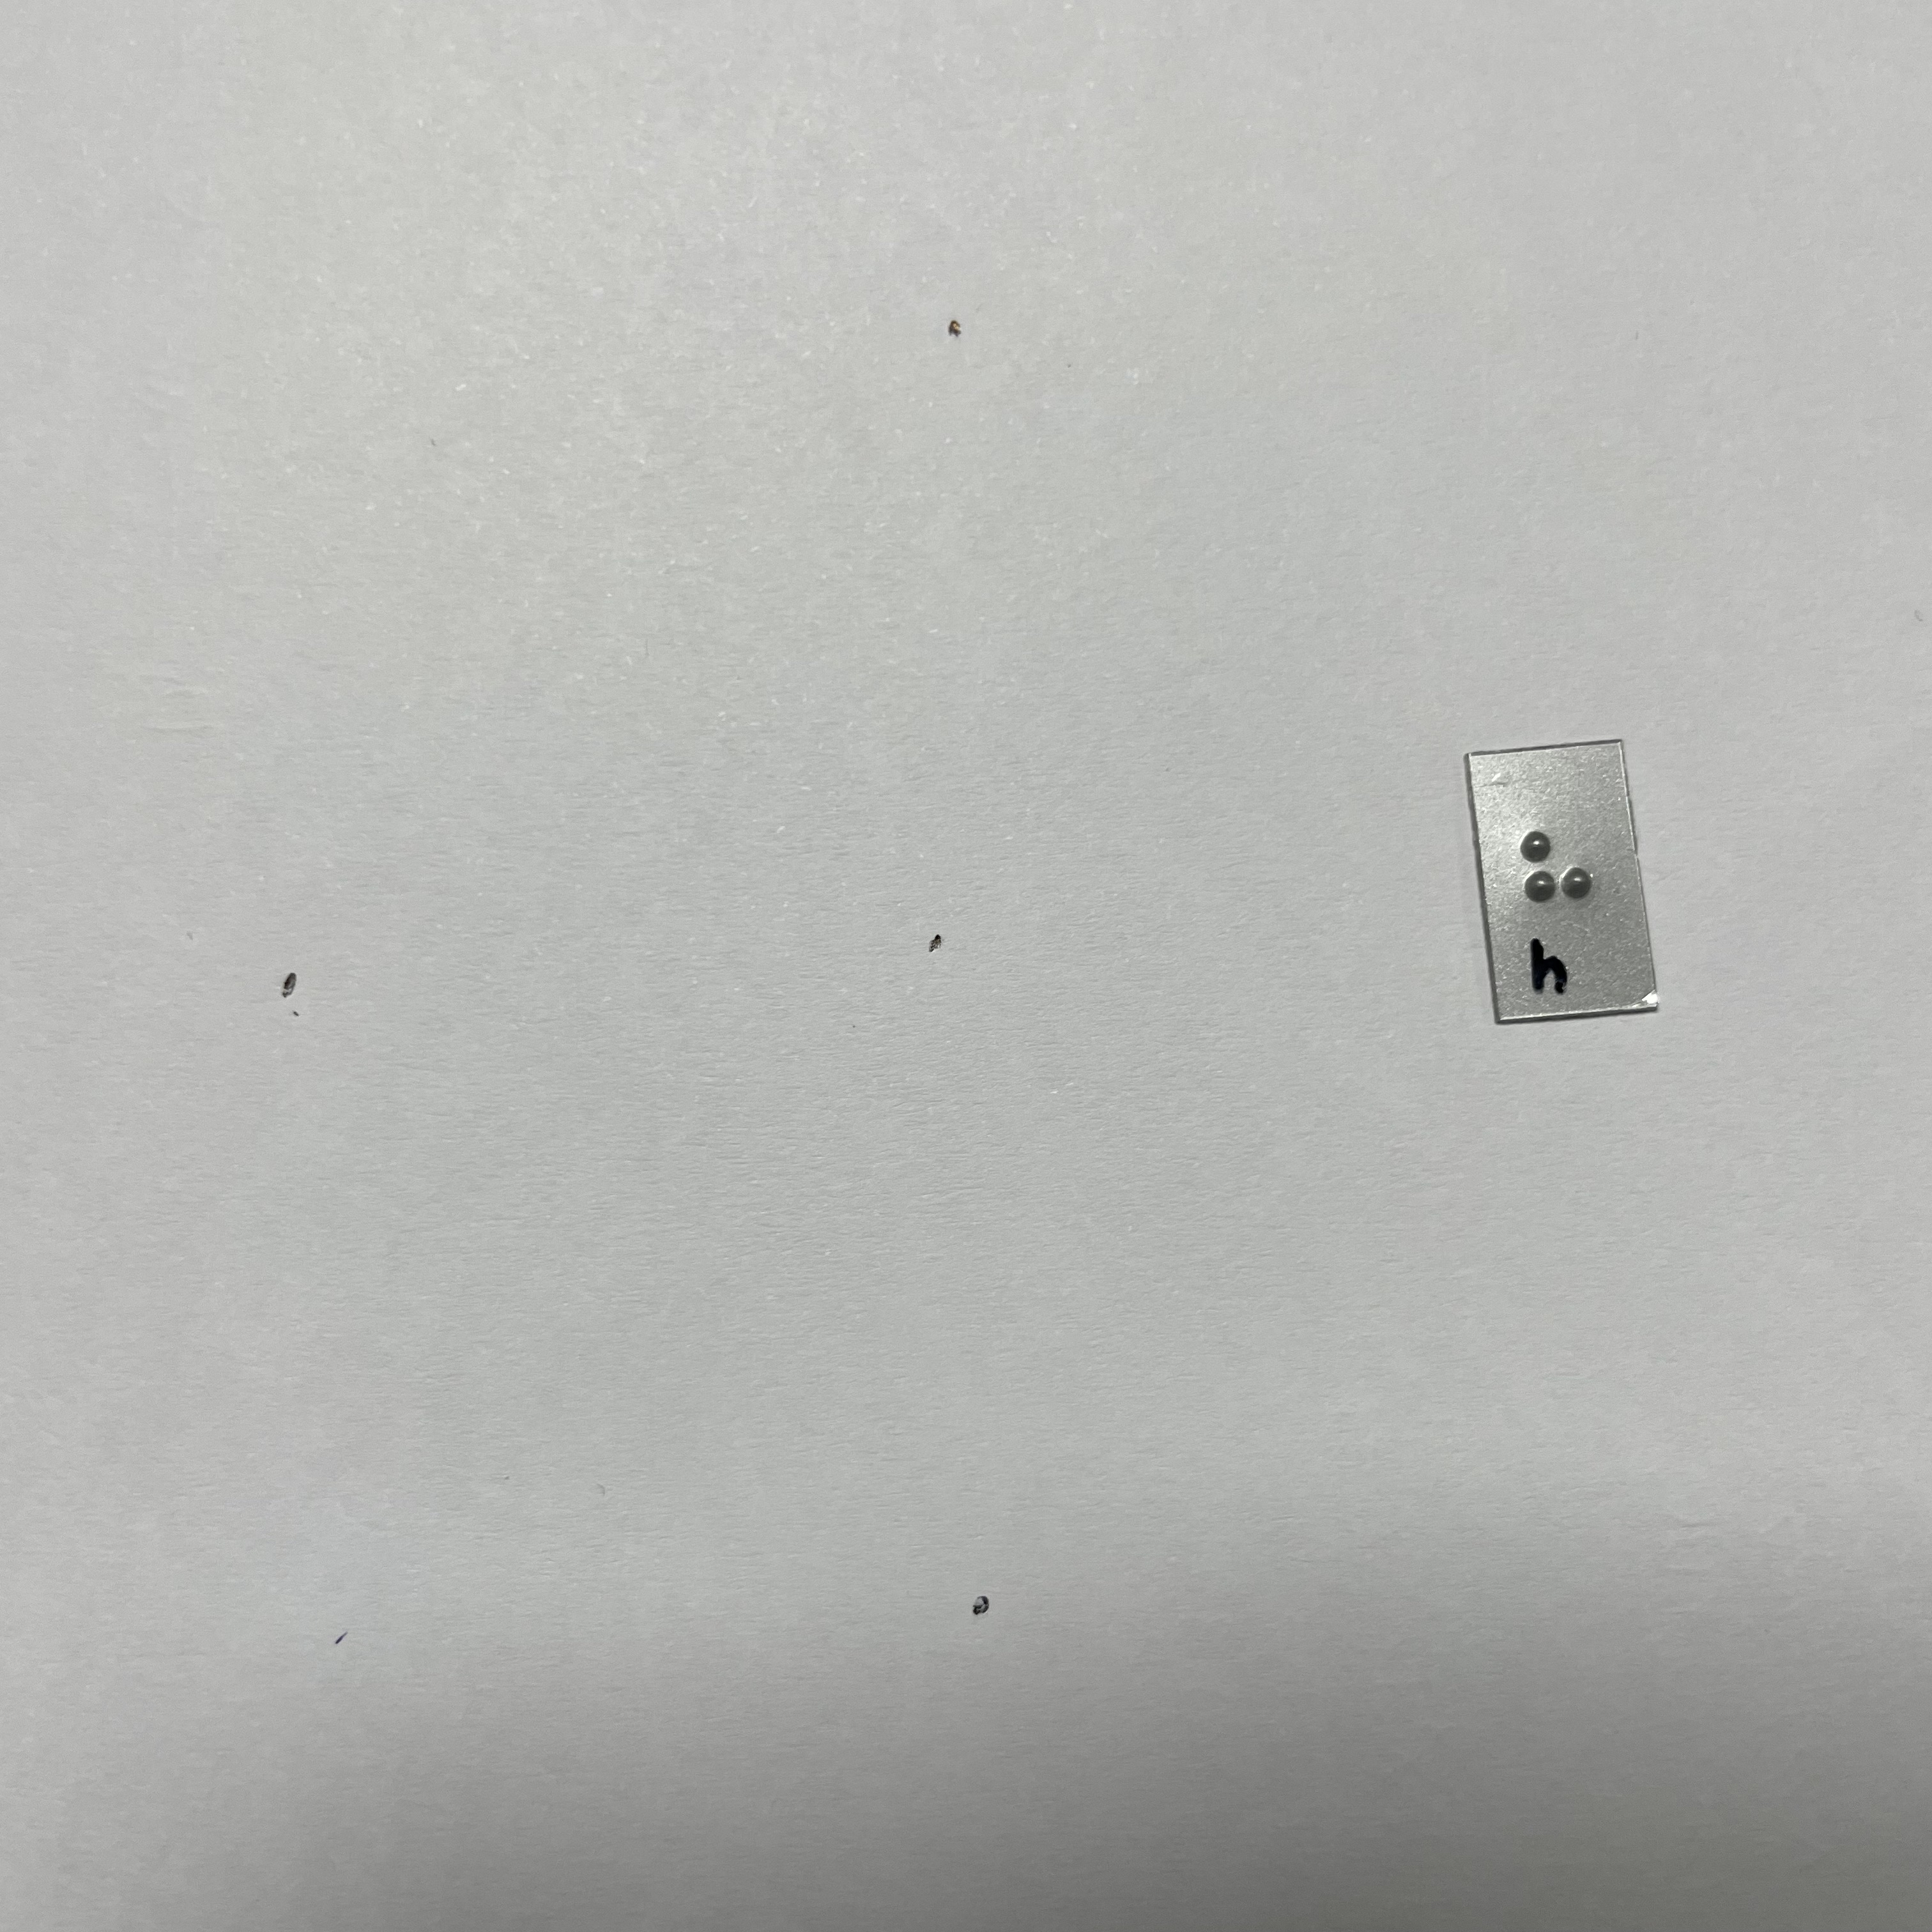h: (1505, 814, 1602, 947)
